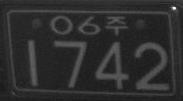0: (49, 14, 74, 35)
1: (18, 39, 48, 86)
2: (135, 41, 170, 91)
4: (94, 41, 129, 88)
6: (78, 15, 100, 36)
7: (53, 39, 88, 88)
주: (104, 15, 128, 36)
